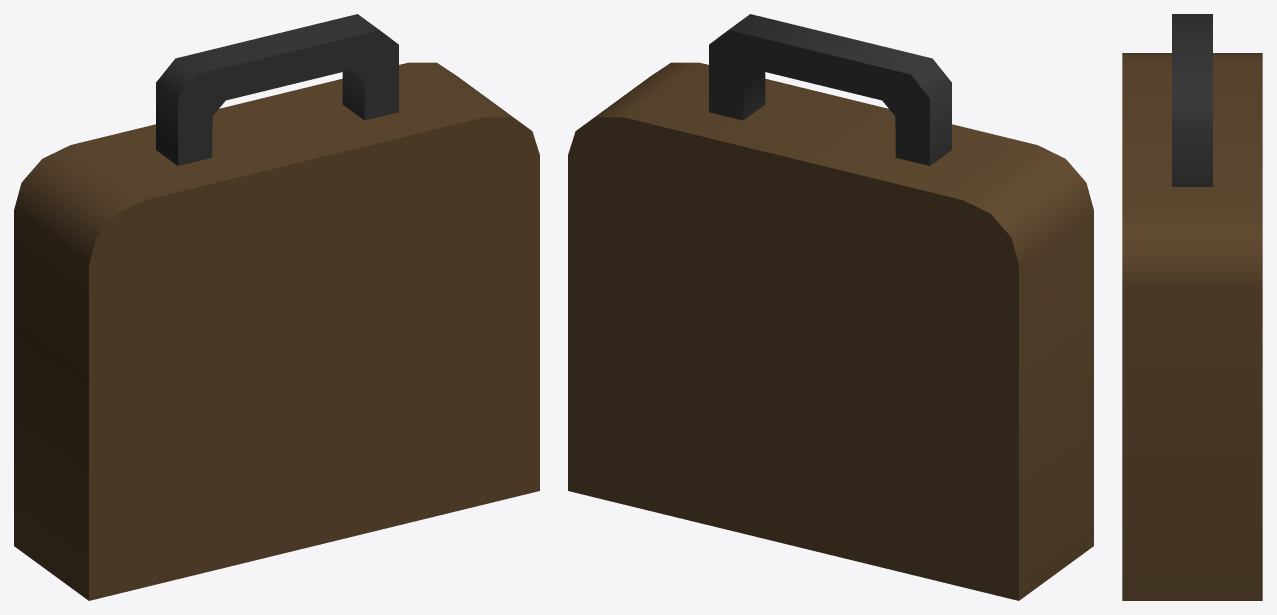
The model's file is bag_suitcase_02.fbx.
3 renders of one model, left to right at view 1: azimuth 30°, elevation 25°; view 2: azimuth 150°, elevation 25°; view 3: azimuth 270°, elevation 25°, orthographic. The views are drawn at different scales.
Visible parts, largest first — view 1: bag_suitcase_02; view 2: bag_suitcase_02; view 3: bag_suitcase_02.
Boxes of the visible parts, left/top/right/bottom form: bag_suitcase_02: left=14, top=14, right=539, bottom=600; bag_suitcase_02: left=568, top=14, right=1093, bottom=600; bag_suitcase_02: left=1122, top=14, right=1262, bottom=600.
Size of the model in its own units: 44.47 by 44.68 by 12.81.
